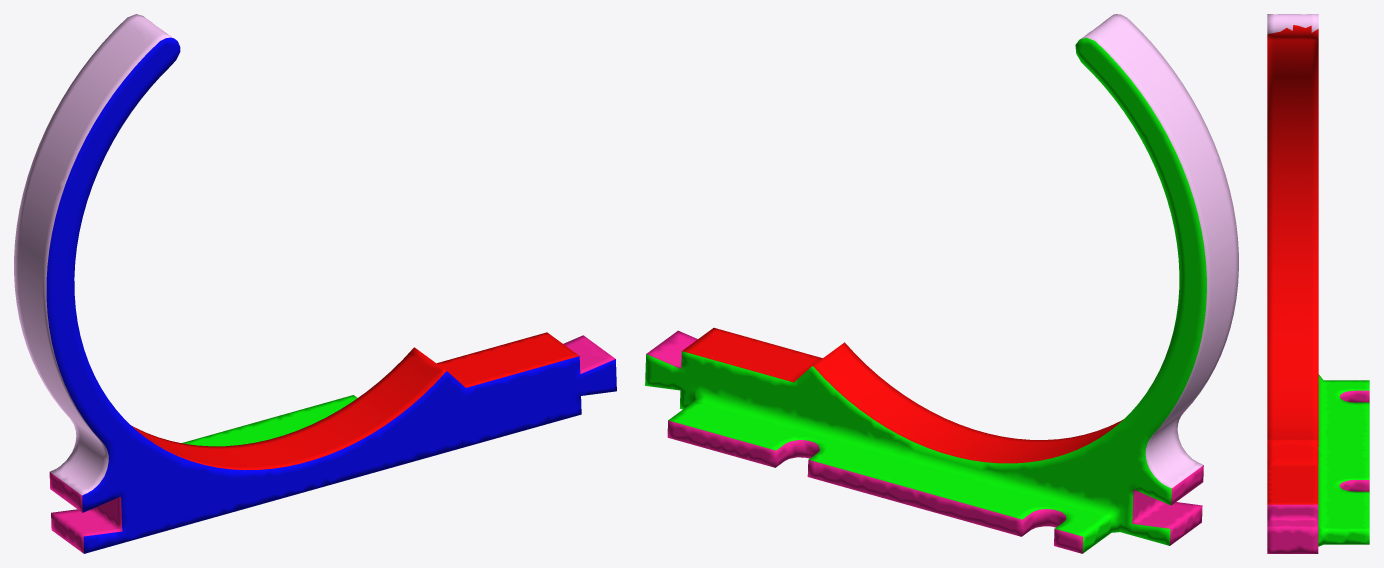
File: model_10013_segmented.obj
3 views of the same model, side by side, from view 1: azimuth 30°, elevation 25°; view 2: azimuth 150°, elevation 25°; view 3: azimuth 270°, elevation 25° (orthographic). The views are drawn at different scales.
Bounding box in the file's own units: 101 × 84.1 × 20.
